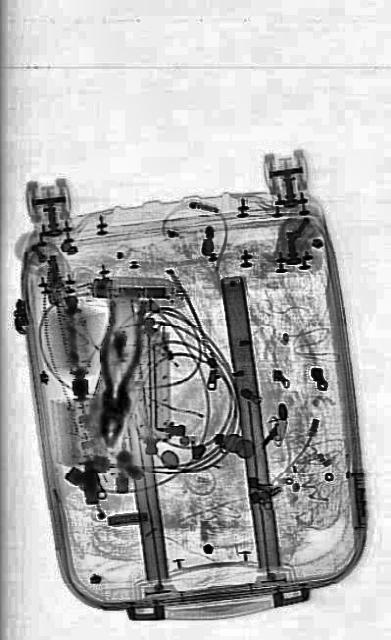Pliers: (86, 289, 146, 449)
